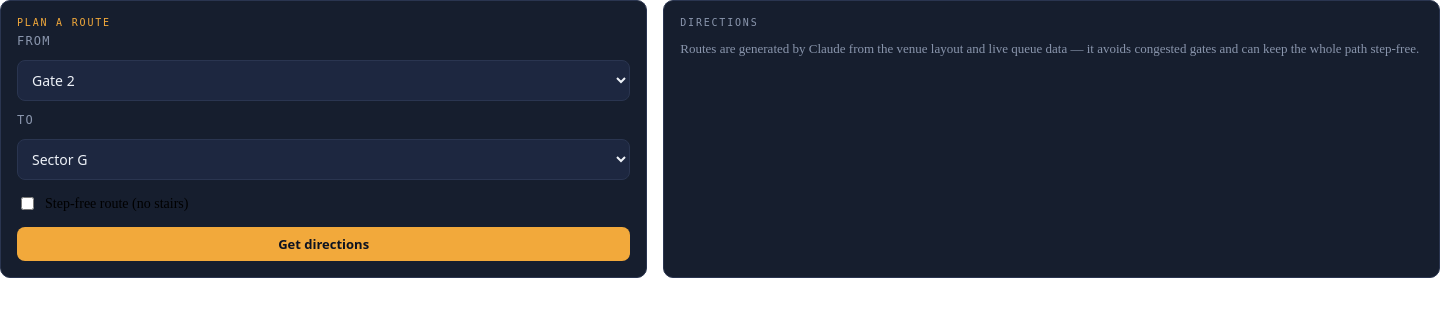
Scenario: Navigate › shows an error alert when routing fails
The width and height of the screenshot is (1440, 321).
What coordinates should you click on to do the following:
click the button "Get directions"
I would click on:
 (324, 244)
Its box is [17,227,630,261].
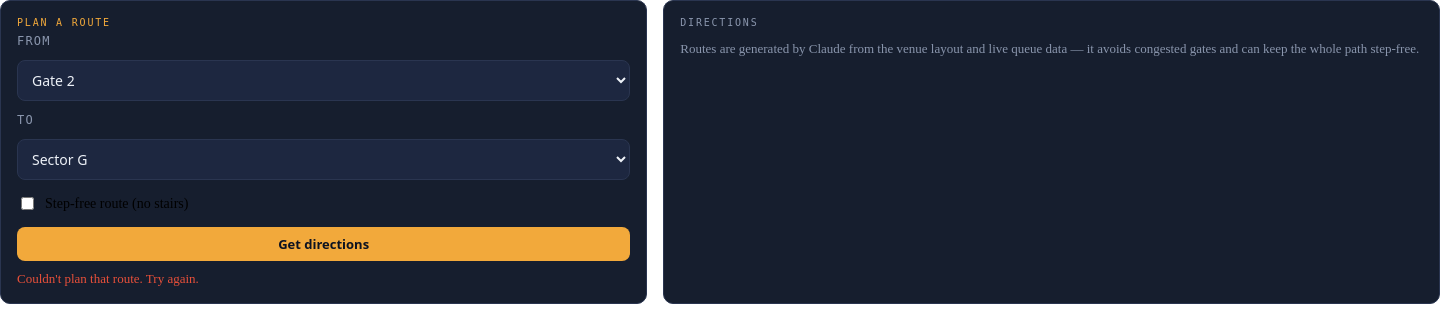
Expected: the message "Couldn't plan that route. Try again." is shown, [17,271,199,286]
